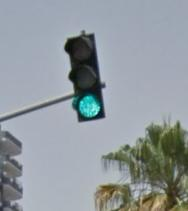greenlight: (71, 35, 103, 123)
